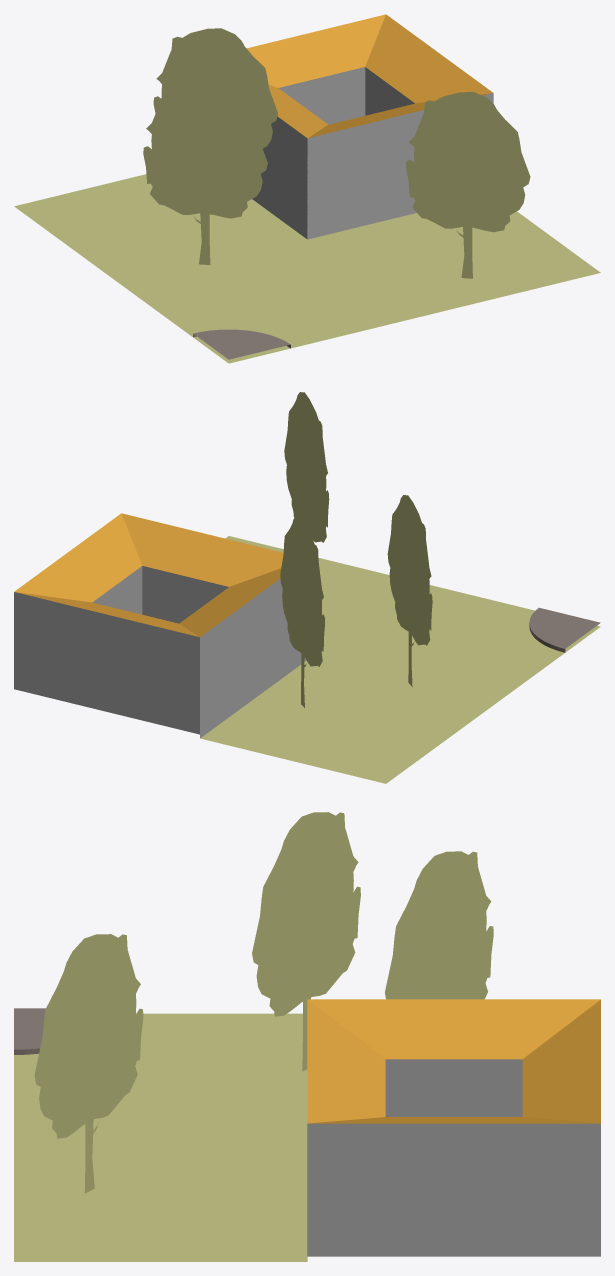
3 views of the same model, one above another, from view 1: azimuth 30°, elevation 25°; view 2: azimuth 150°, elevation 25°; view 3: azimuth 270°, elevation 25° (orthographic). The views are drawn at different scales.
Visible parts, largest first — view 1: w2wr; view 2: w2wr; view 3: w2wr.
Boxes of the visible parts, x1,y1,x2,y2 form: w2wr: (14,14,600,363); w2wr: (14,392,600,783); w2wr: (14,812,600,1261).
Bounding box in the file's own units: 30 × 14.41 × 30.
